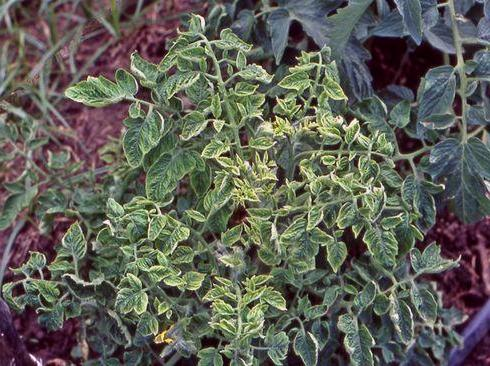Tomato mold leaf: (423, 138, 489, 236), (56, 64, 141, 109), (140, 146, 195, 202), (333, 311, 384, 366), (119, 113, 164, 175), (406, 236, 464, 277), (282, 215, 323, 267), (407, 279, 448, 331), (384, 281, 415, 345), (362, 226, 400, 273), (108, 274, 149, 315), (124, 46, 162, 90), (157, 71, 201, 106), (291, 324, 325, 366), (60, 216, 90, 258), (321, 236, 353, 275), (254, 286, 287, 311), (198, 137, 231, 161), (219, 224, 247, 248), (145, 212, 166, 243), (182, 268, 211, 290)
